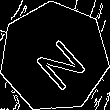N_NW: (23, 25, 86, 89)
